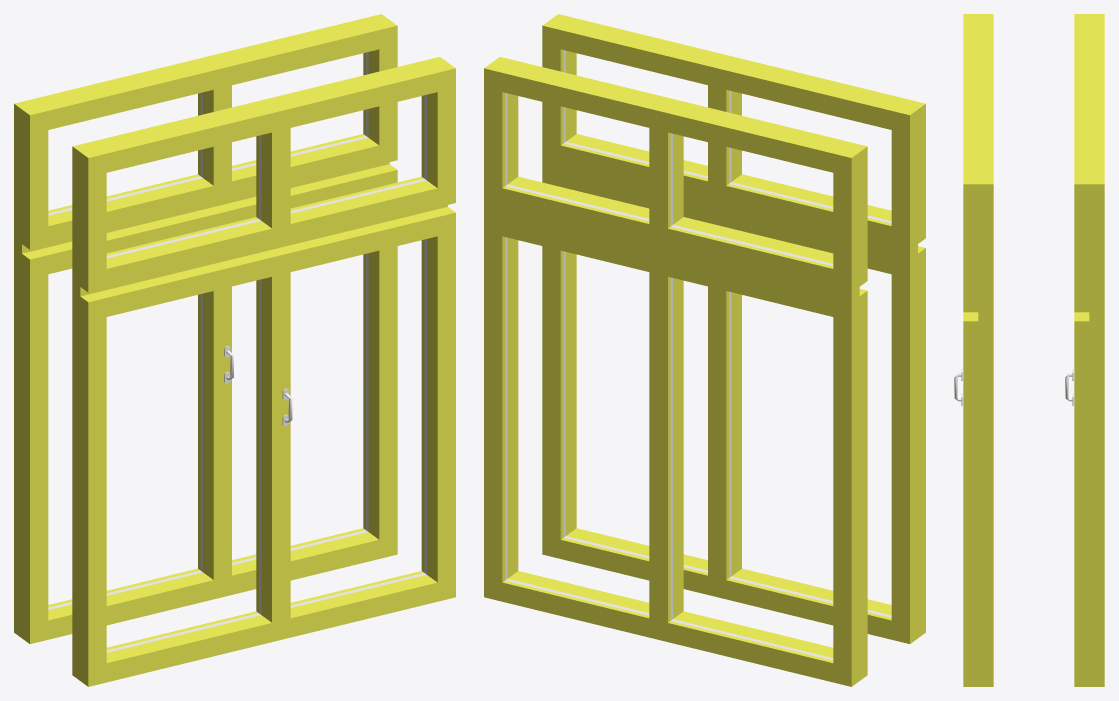
The model's file is glass.fbx.
The picture shows the model from 3 angles, left to right: view 1: azimuth 30°, elevation 25°; view 2: azimuth 150°, elevation 25°; view 3: azimuth 270°, elevation 25°; orthographic projection. The views are drawn at different scales.
Visible parts, largest first — view 1: Окружность.001; view 2: Окружность.001; view 3: Окружность.001.
Boxes of the visible parts, x1=… form: Окружность.001: x1=14, y1=14, x2=455, y2=686; Окружность.001: x1=484, y1=14, x2=925, y2=686; Окружность.001: x1=954, y1=14, x2=1104, y2=686.
Bounding box in the file's own units: 200 × 275 × 74.4.
